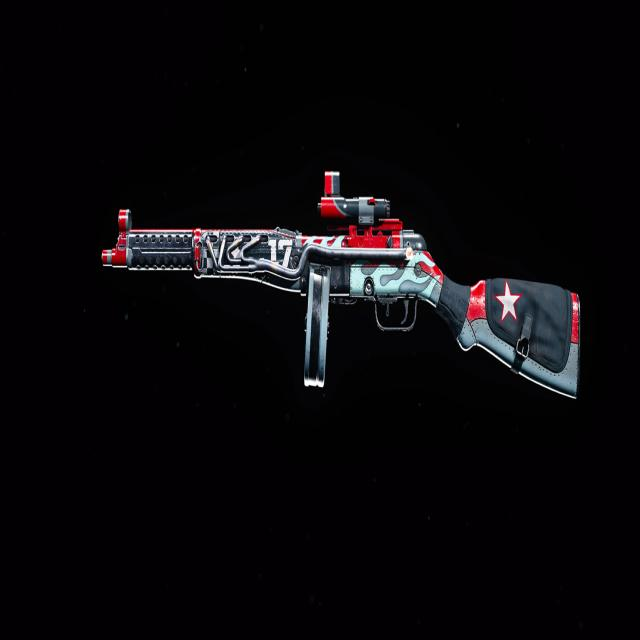SMG: (102, 171, 580, 401)
